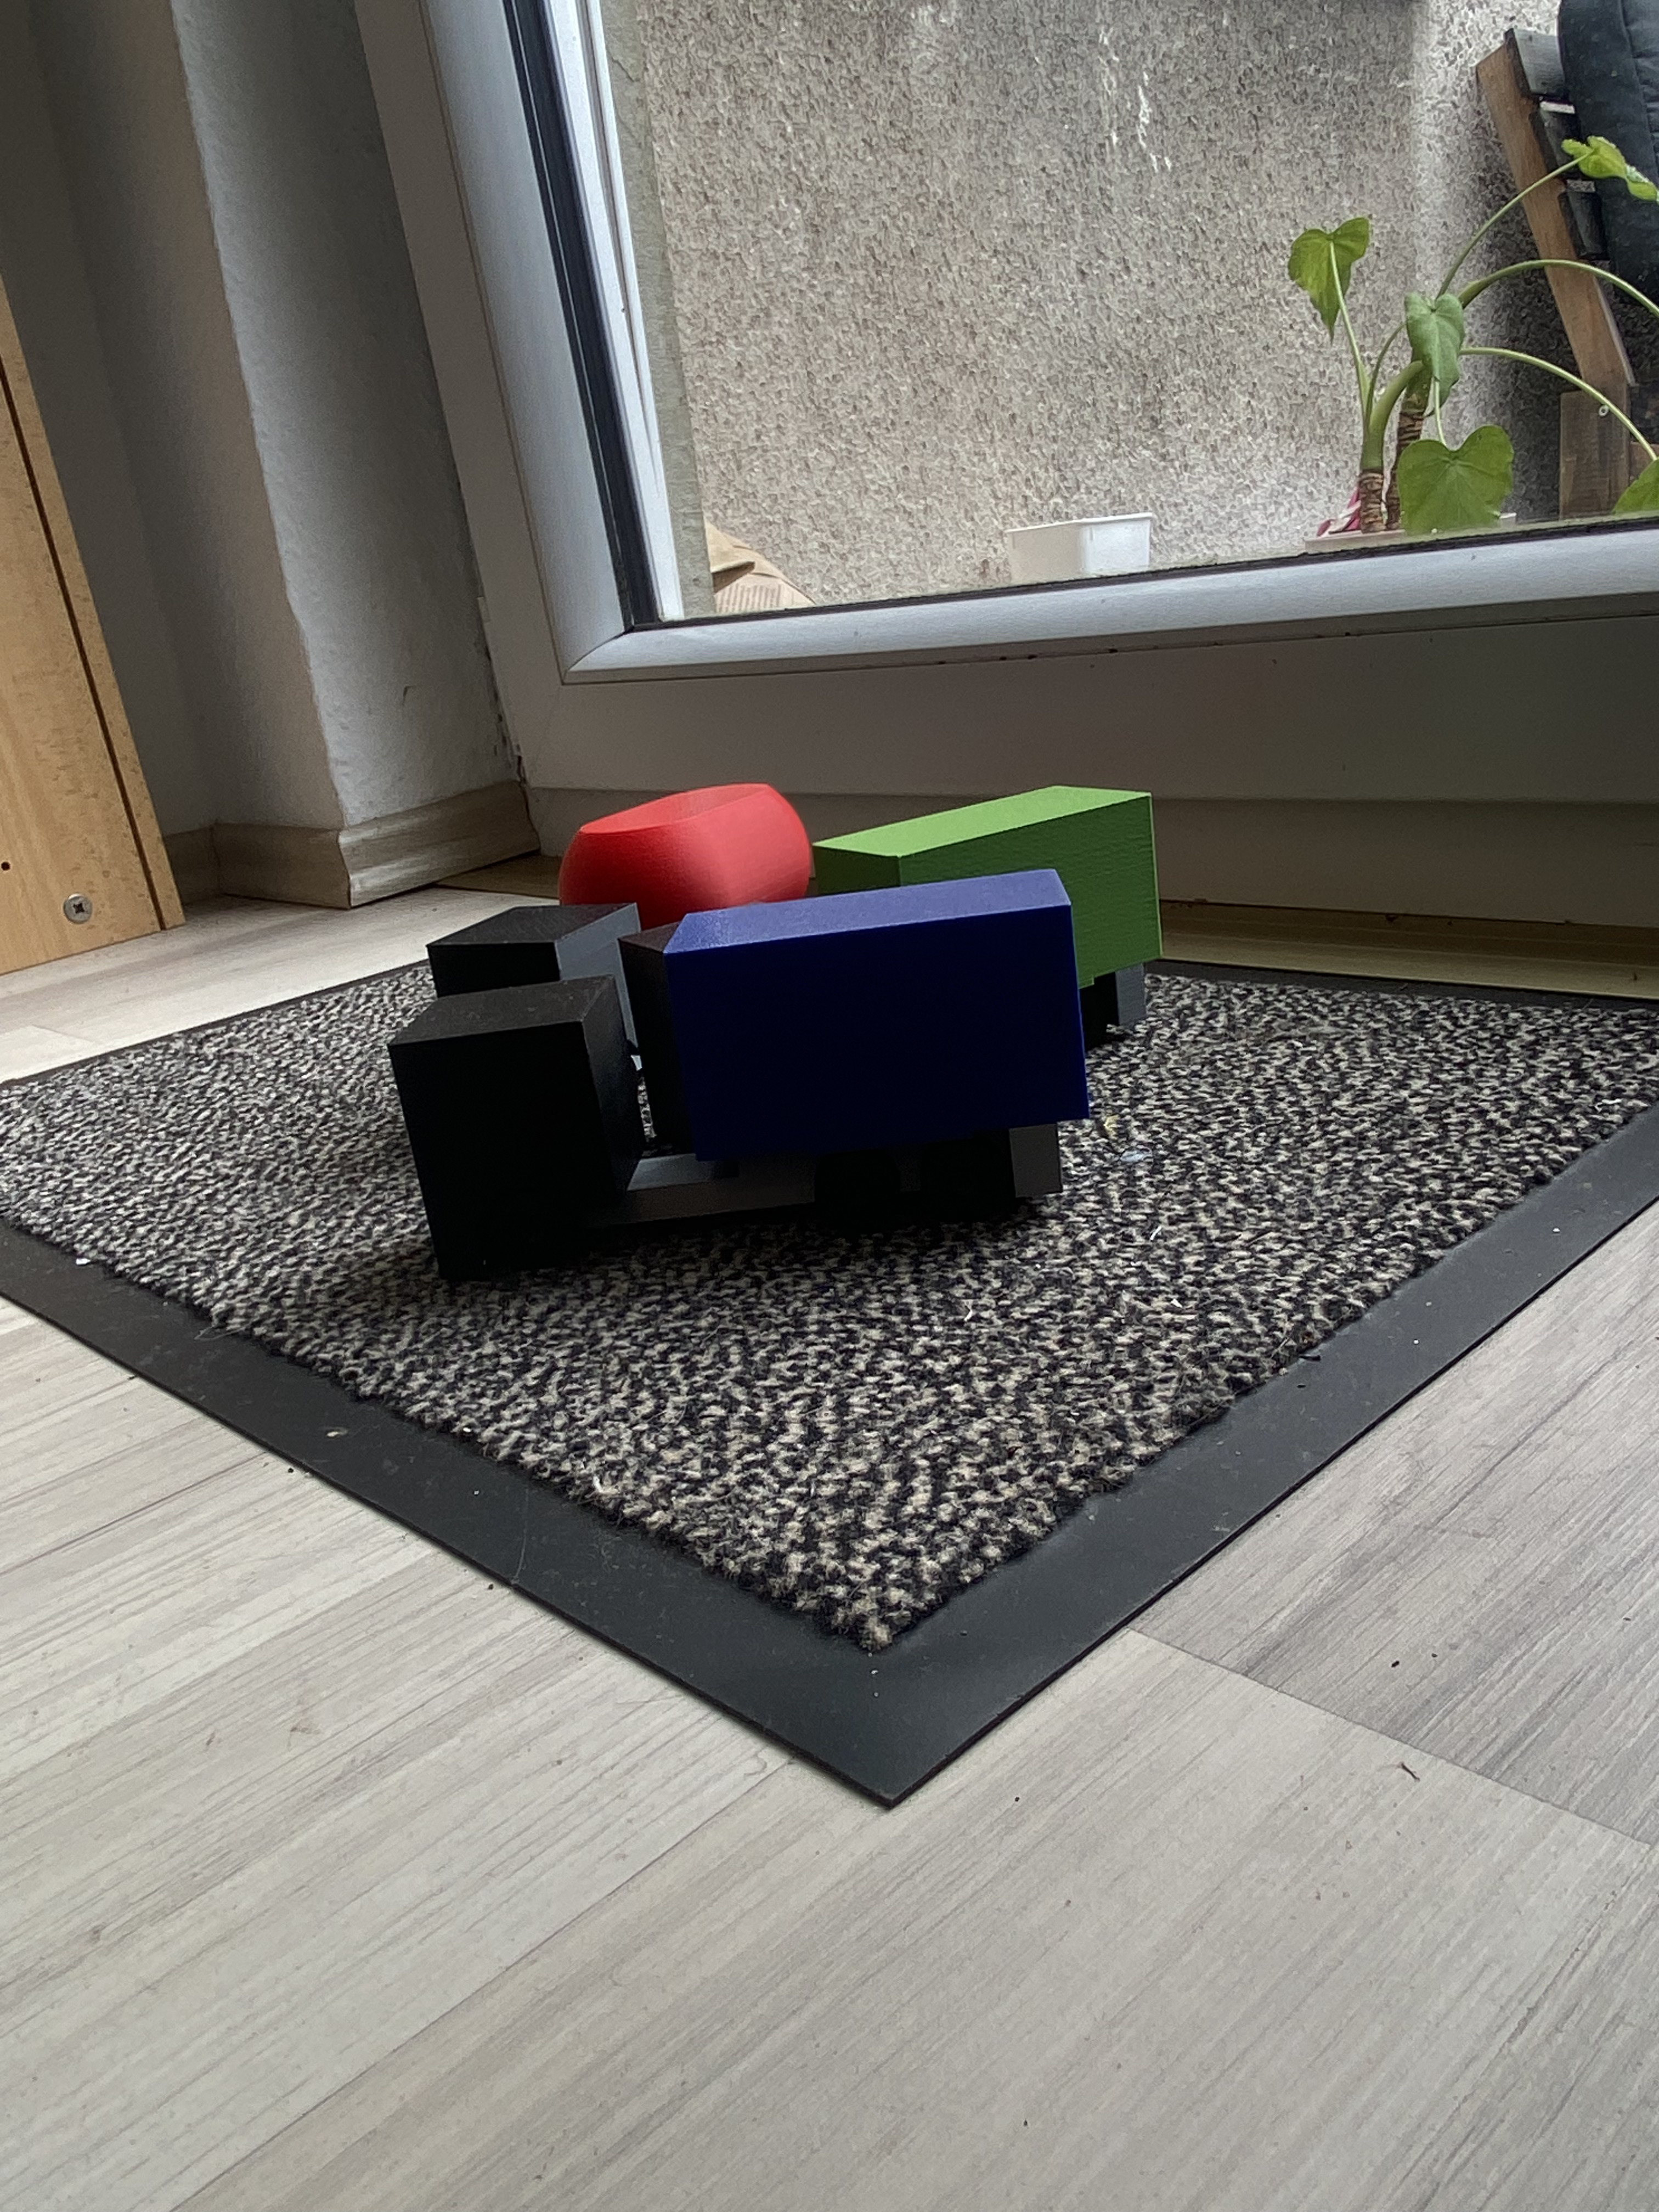blue_truck: (392, 904, 1098, 1244)
green_truck: (904, 707, 1161, 1071)
red_truck: (544, 658, 690, 1113)
